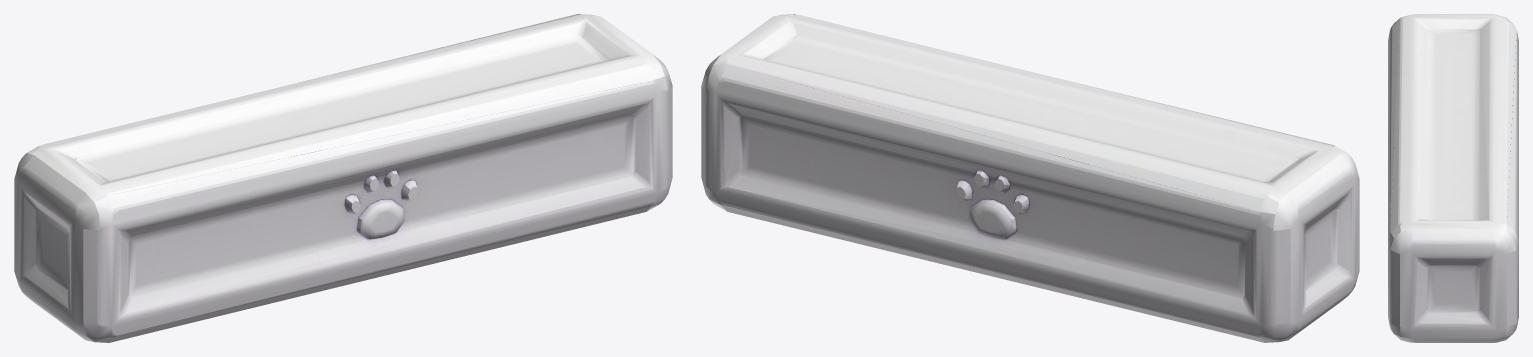
The model's file is cubuk4.glb.
3 renders of one model, left to right at view 1: azimuth 30°, elevation 25°; view 2: azimuth 150°, elevation 25°; view 3: azimuth 270°, elevation 25°, orthographic. The views are drawn at different scales.
Visible parts, largest first — view 1: cubuk4; view 2: cubuk4; view 3: cubuk4.
Part boxes in pixels (box(x1,y1,x2,y2)): cubuk4: box(14, 14, 672, 342); cubuk4: box(701, 14, 1359, 342); cubuk4: box(1388, 14, 1518, 342).
Bounding box in the file's own units: 6.14 × 1.51 × 1.51.
1 material, 1 textured.
